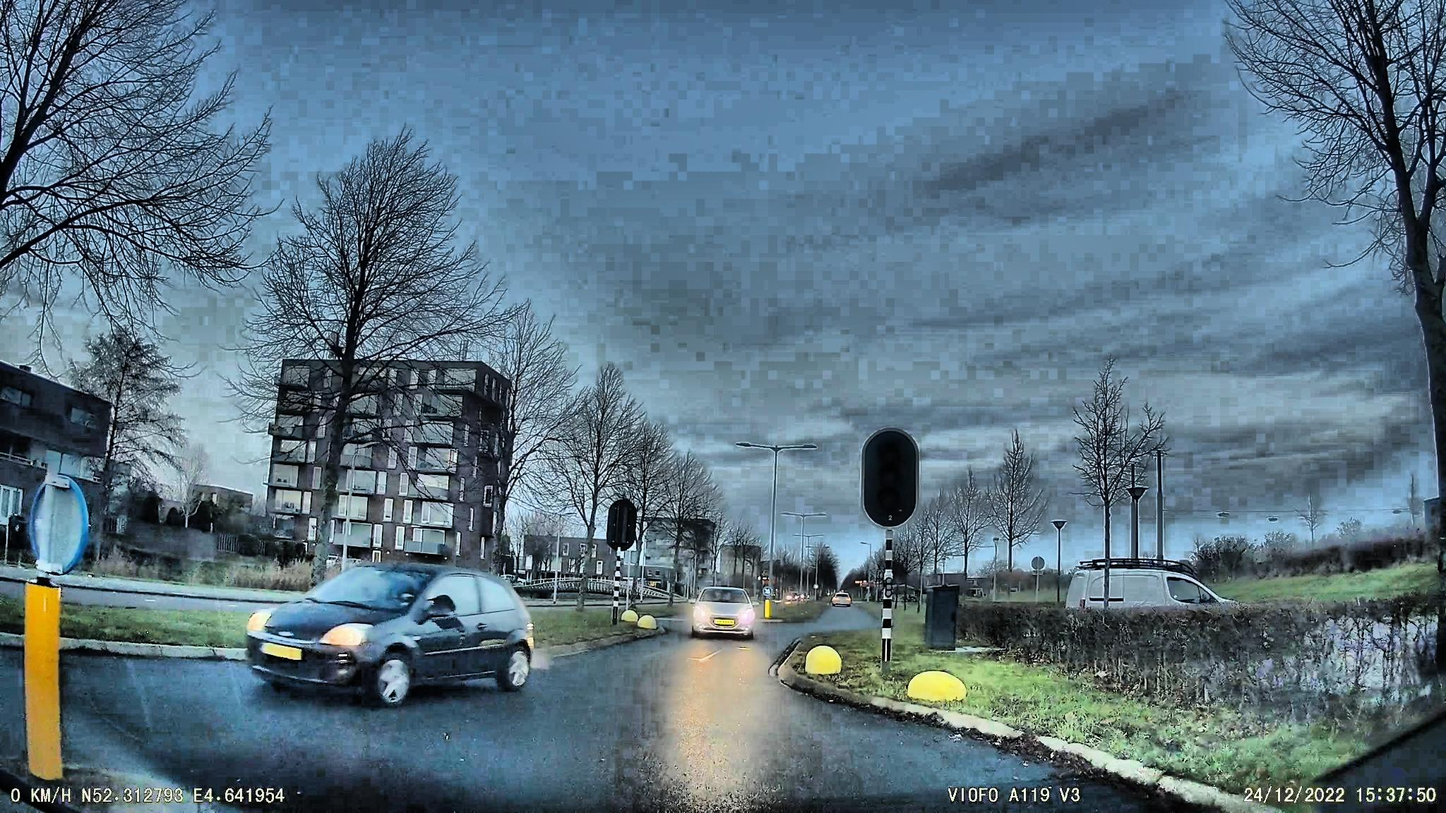Roads: (29, 633, 1159, 813)
